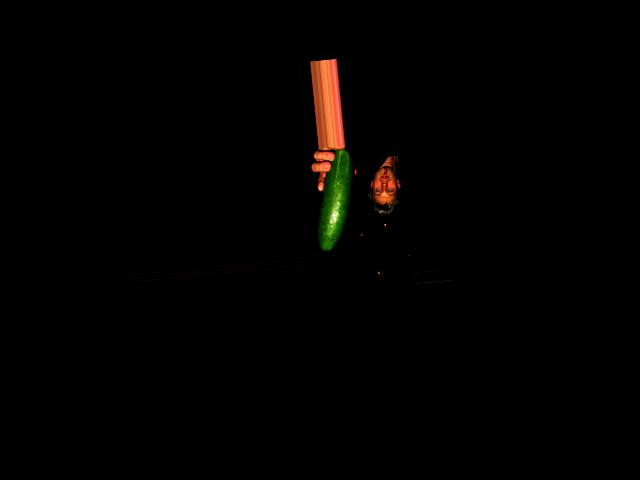cucumber: (309, 148, 359, 251)
